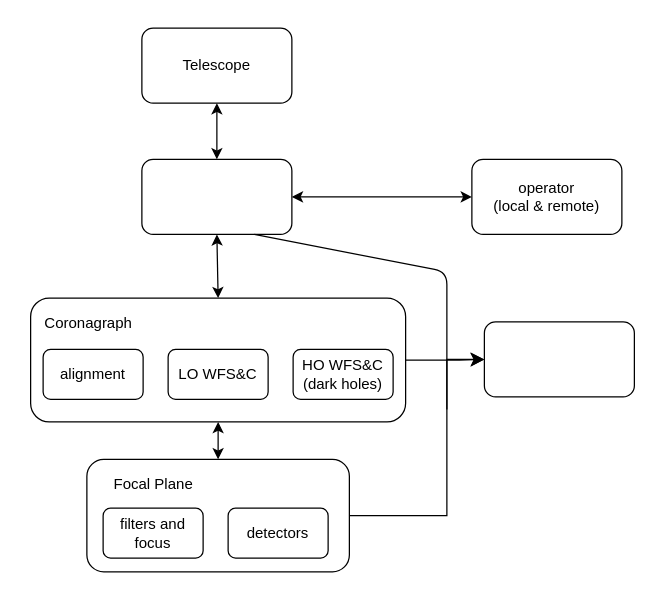
The diagram is 668 pixels wide and 605 high, and some of its shapes have lost their labels. The box of each missing label's shape, as (x1, y1, x2, y2) in pixels:
archive: (483, 321, 634, 397)
High-order AO: (141, 158, 292, 234)
